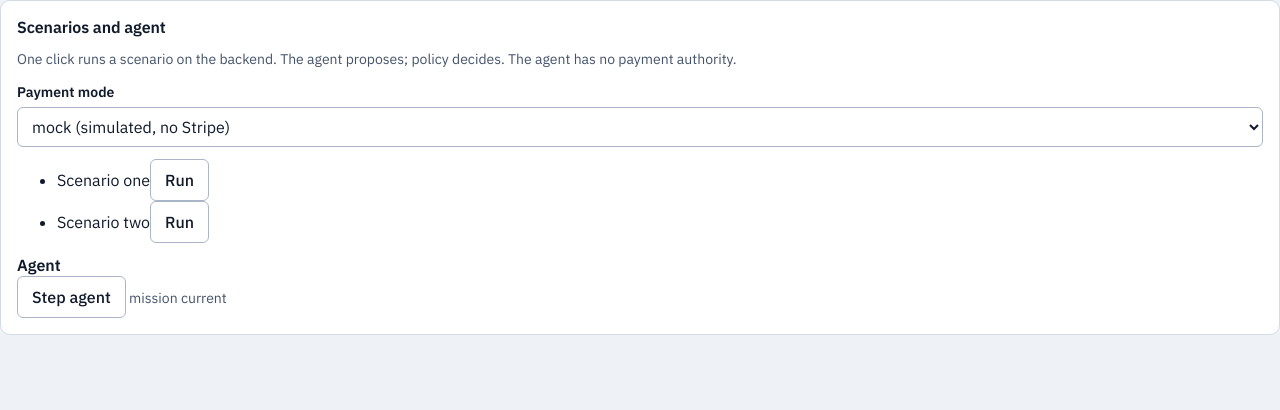
Test: ScenariosPanel › shows backend errors and keeps working
What coordinates should you click on to do the following:
click the button "Run" next to "Scenario one"
I would click on:
 (180, 180)
Its box is [150,159,209,201].
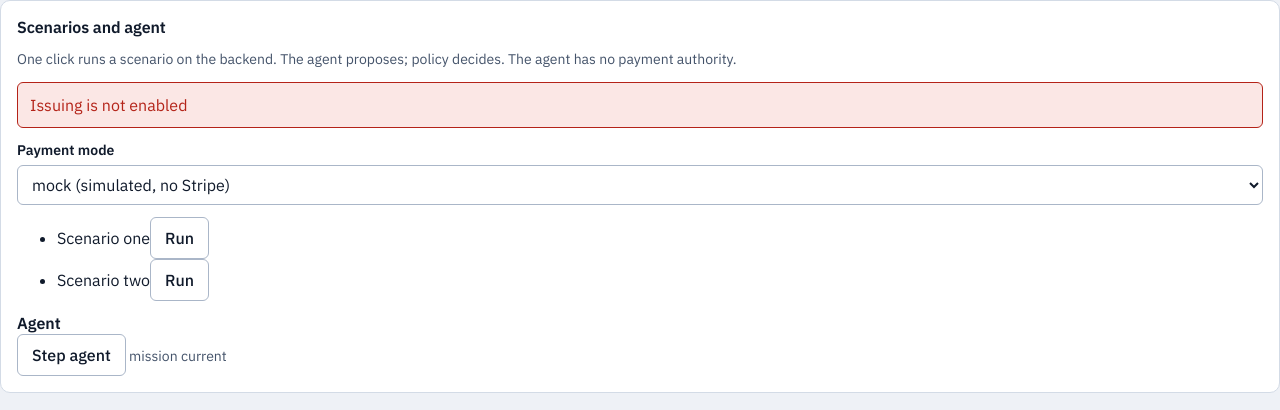
Expected: the message reads "Issuing is not enabled", [30,95,187,115]
